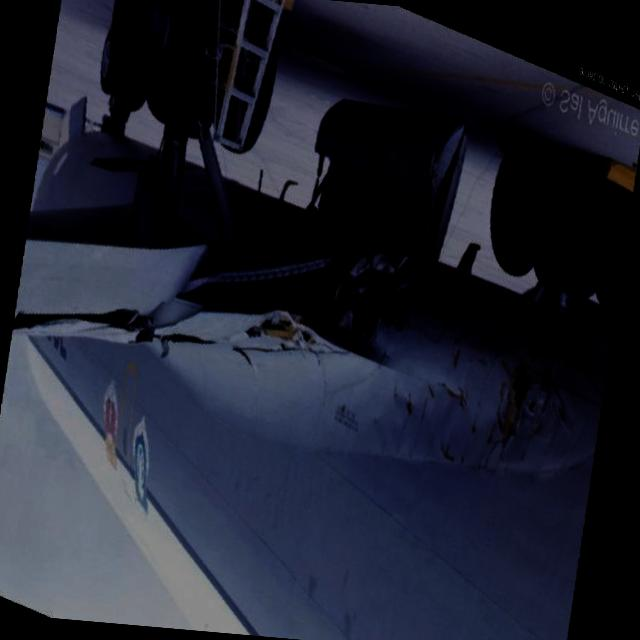crack: (496, 344, 548, 451)
dent: (371, 352, 502, 464)
